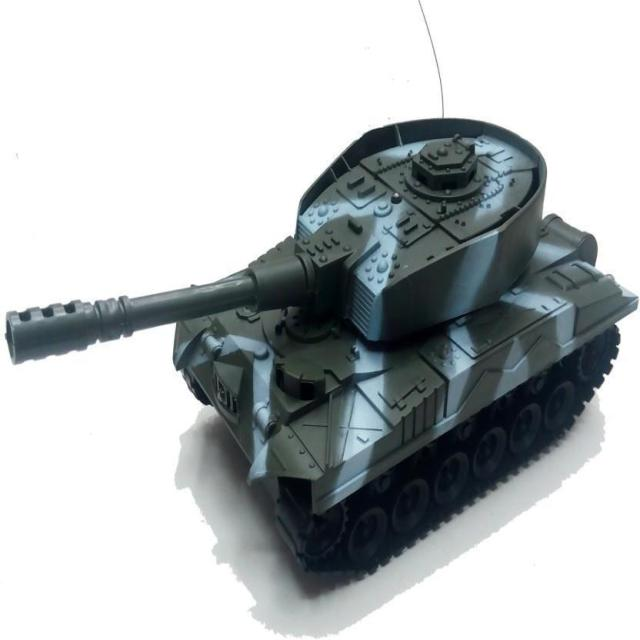Tanks: (5, 113, 633, 580)
